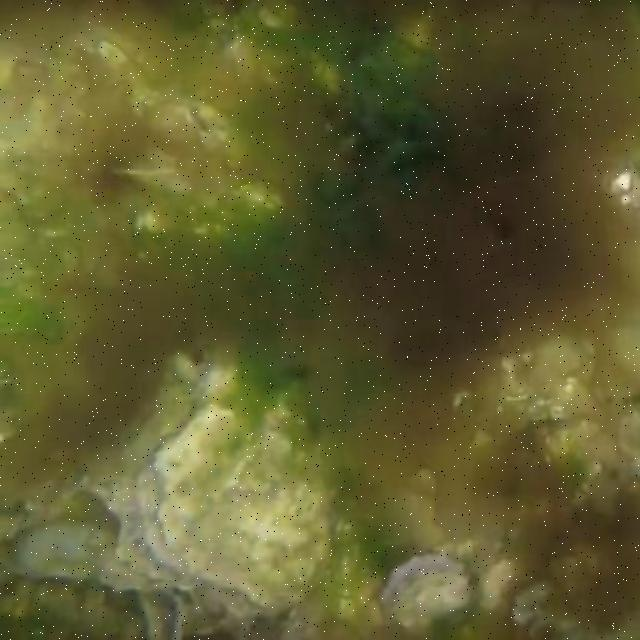Oyster-Closed: (140, 403, 331, 608), (11, 518, 151, 588)
Oyster-Open: (381, 556, 470, 632), (140, 593, 190, 640)
